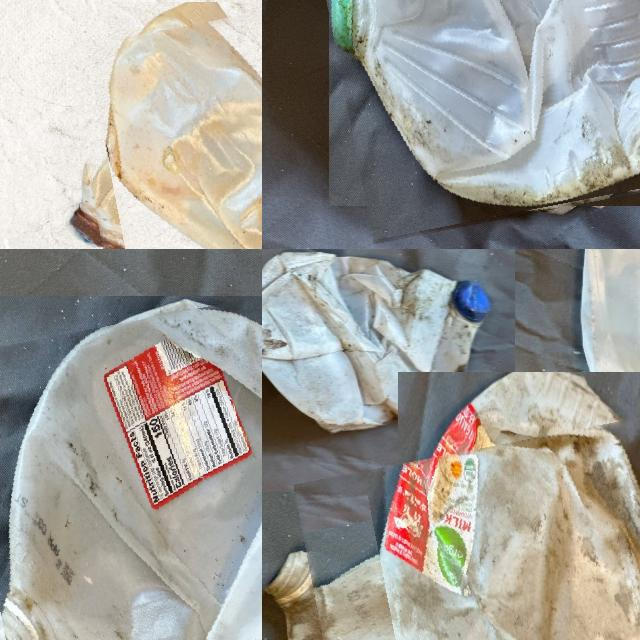milk-jug: (0, 292, 262, 640), (315, 0, 640, 225), (310, 423, 640, 640), (75, 11, 262, 249), (262, 250, 488, 435), (577, 249, 640, 422)
